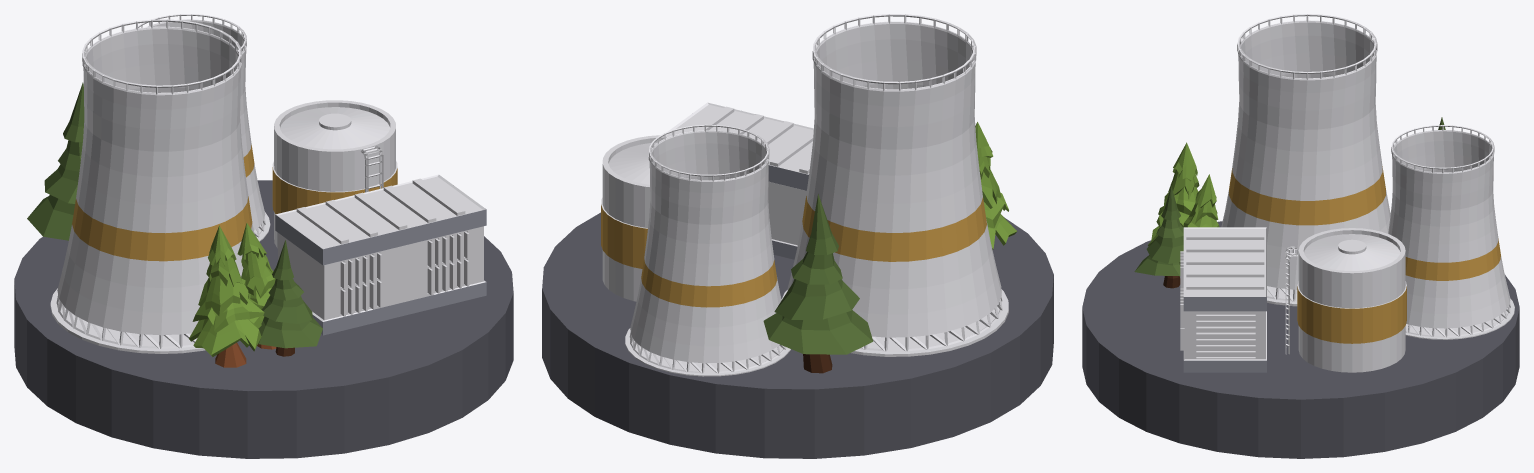
File: nuclear.glb
The picture shows the model from 3 angles, left to right: view 1: azimuth 30°, elevation 25°; view 2: azimuth 150°, elevation 25°; view 3: azimuth 270°, elevation 25°; orthographic projection. The views are drawn at different scales.
Parts seen in each view (by area): view 1: Cylinder, Cylinder.008, Cube.023, Cylinder.012, Tree.011, Tree.020, Tree.013, Cylinder.010, Cylinder.014, Cylinder.009, Tree.007, Cylinder.007 (+2 smaller); view 2: Cylinder, Cylinder.008, Cylinder.014, Tree.013, Cube.023, Cylinder.012, Cylinder.010, Cylinder.009, Tree.011, Cylinder.015, Cylinder.016, Cylinder.007 (+1 smaller); view 3: Cylinder, Cylinder.008, Cylinder.014, Cylinder.012, Cube.023, Tree.020, Cylinder.010, Tree.011, Cylinder.016, Tree.007, Cylinder.015, Cylinder.011 (+1 smaller).
Boxes of the visible parts, left/top/right/bottom form: Cylinder: left=14, top=180, right=513, bottom=458; Cylinder.008: left=57, top=29, right=254, bottom=335; Cube.023: left=275, top=174, right=486, bottom=335; Cylinder.012: left=272, top=100, right=397, bottom=248; Tree.011: left=189, top=225, right=264, bottom=367; Tree.020: left=258, top=240, right=322, bottom=356; Tree.013: left=27, top=82, right=84, bottom=240; Cylinder.010: left=82, top=19, right=241, bottom=95; Cylinder.014: left=153, top=21, right=265, bottom=230; Cylinder.009: left=50, top=288, right=205, bottom=353; Tree.007: left=237, top=223, right=276, bottom=349; Cylinder.007: left=56, top=294, right=196, bottom=348; Cylinder: left=542, top=212, right=1053, bottom=458; Cylinder.008: left=787, top=24, right=1001, bottom=337; Cylinder.014: left=630, top=132, right=781, bottom=363; Tree.013: left=763, top=194, right=873, bottom=373; Cube.023: left=666, top=102, right=813, bottom=259; Cylinder.012: left=601, top=135, right=671, bottom=301; Cylinder.010: left=812, top=14, right=976, bottom=91; Cylinder.009: left=781, top=289, right=1008, bottom=356; Tree.011: left=975, top=122, right=1017, bottom=249; Cylinder.015: left=625, top=328, right=790, bottom=376; Cylinder.016: left=649, top=124, right=769, bottom=181; Cylinder.007: left=859, top=297, right=1002, bottom=351; Cylinder: left=1082, top=221, right=1519, bottom=458; Cylinder.008: left=1221, top=22, right=1390, bottom=289; Cylinder.014: left=1388, top=131, right=1510, bottom=328; Cylinder.012: left=1297, top=228, right=1406, bottom=372; Cube.023: left=1180, top=227, right=1266, bottom=372; Tree.020: left=1134, top=186, right=1183, bottom=288; Cylinder.010: left=1237, top=14, right=1377, bottom=80; Tree.011: left=1148, top=142, right=1199, bottom=246; Cylinder.016: left=1391, top=125, right=1494, bottom=173; Tree.007: left=1179, top=174, right=1219, bottom=265; Cylinder.015: left=1405, top=298, right=1514, bottom=339; Cylinder.011: left=1405, top=302, right=1510, bottom=337.
Size of the model in its own units: 3.33 by 2.36 by 3.33.
